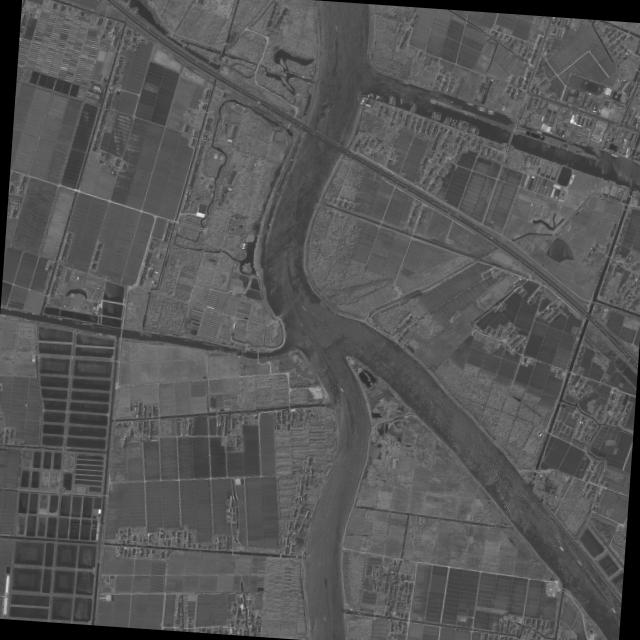ship: (575, 557, 583, 566), (557, 542, 565, 551), (609, 604, 616, 613), (409, 101, 415, 111), (456, 118, 462, 127), (476, 104, 486, 109), (517, 507, 524, 514), (301, 304, 307, 312), (310, 334, 316, 342), (610, 152, 619, 157), (485, 109, 494, 114), (465, 100, 474, 105), (444, 97, 453, 102), (458, 119, 463, 128), (411, 102, 416, 111), (430, 108, 435, 117), (442, 115, 448, 122), (485, 108, 495, 112), (339, 384, 344, 392), (468, 123, 473, 131), (472, 125, 477, 133), (462, 119, 470, 124), (447, 116, 452, 124), (444, 115, 449, 123), (476, 107, 485, 111), (322, 614, 326, 623), (357, 90, 361, 99), (435, 111, 439, 120), (436, 111, 440, 120), (459, 121, 464, 128), (463, 123, 468, 130), (473, 126, 478, 133), (454, 103, 462, 107), (471, 124, 475, 132), (432, 110, 436, 118), (433, 111, 437, 119), (438, 111, 442, 119), (299, 321, 304, 327), (284, 248, 287, 258), (324, 576, 327, 586), (390, 93, 393, 103), (566, 139, 573, 143), (461, 122, 465, 129), (462, 122, 466, 129), (465, 123, 469, 130), (466, 124, 470, 131), (475, 127, 479, 134), (413, 105, 417, 112), (283, 273, 286, 282), (391, 95, 394, 104), (399, 94, 402, 103), (508, 490, 513, 495), (454, 118, 457, 126), (388, 94, 391, 102), (393, 96, 396, 104), (445, 117, 449, 123), (476, 128, 480, 134), (470, 124, 473, 131), (451, 118, 454, 125), (378, 94, 382, 99), (327, 103, 329, 111), (453, 118, 455, 126), (450, 118, 452, 125), (375, 93, 377, 99), (376, 93, 378, 98), (378, 94, 380, 98), (377, 94, 379, 97)
storage-tank: (548, 585, 553, 590)
